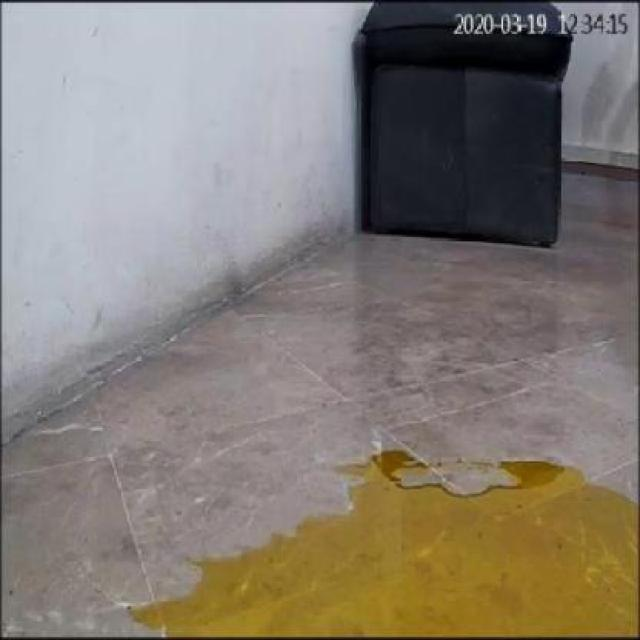spillage: (132, 450, 636, 638)
